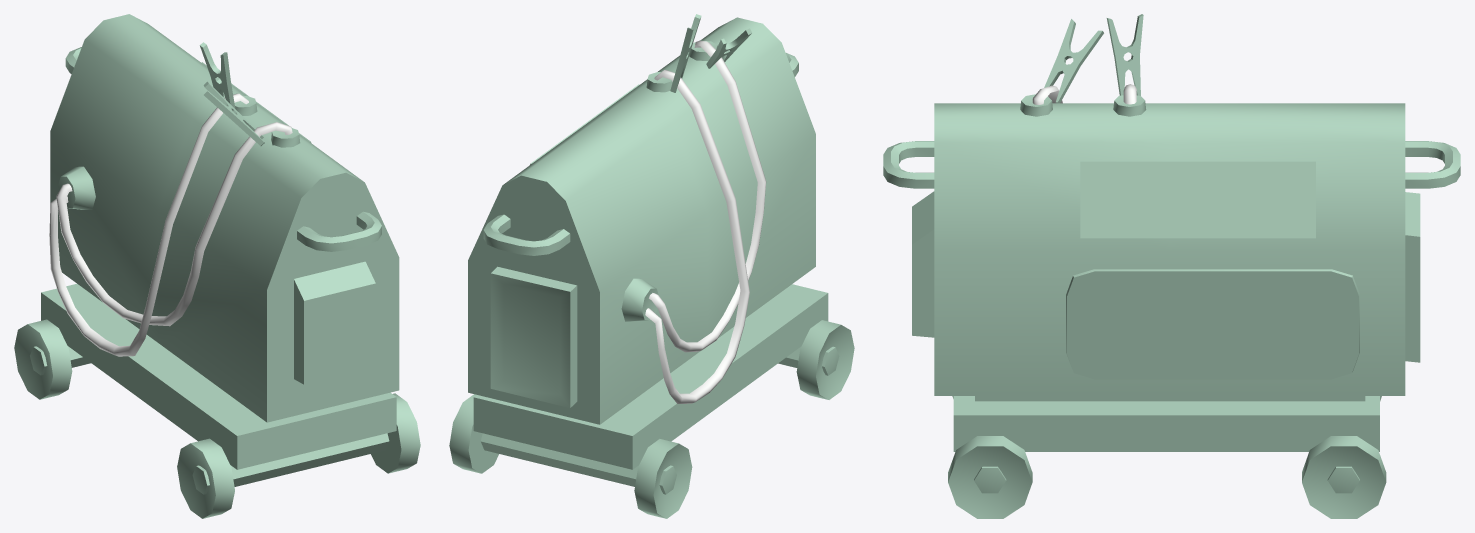
File: generator4.fbx
3 views of the same model, side by side, from view 1: azimuth 30°, elevation 25°; view 2: azimuth 150°, elevation 25°; view 3: azimuth 270°, elevation 25° (orthographic). The views are drawn at different scales.
Visible parts, largest first — view 1: generatoronwheels; view 2: generatoronwheels; view 3: generatoronwheels.
Boxes of the visible parts, x1,y1,x2,y2 form: generatoronwheels: [14, 14, 420, 518]; generatoronwheels: [449, 14, 854, 518]; generatoronwheels: [883, 14, 1460, 518].
Bounding box in the file's own units: 68.57 × 129 × 154.
